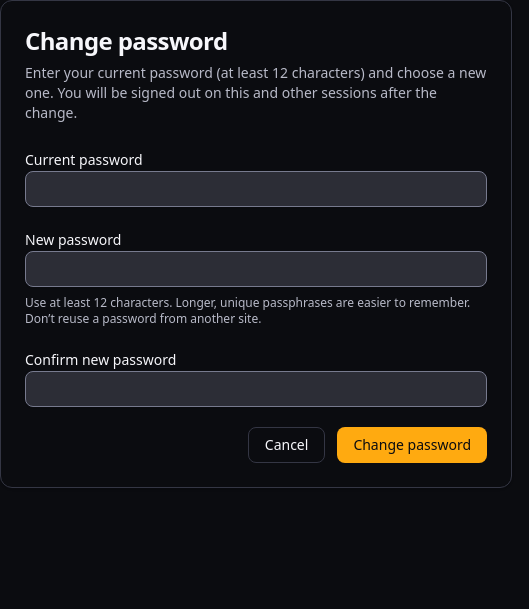
Test: self-service password change › shows password guidance and blocks a new password that is too short
Expected: the text "Use at least 12 characters. Longer, unique passphrases are easier to remember. Don’t reuse a password from another site." is shown, 25,294 -> 470,327
Type "current-test-password" into the password field labelled "Current password" at (256, 189), box 25,171 -> 487,207
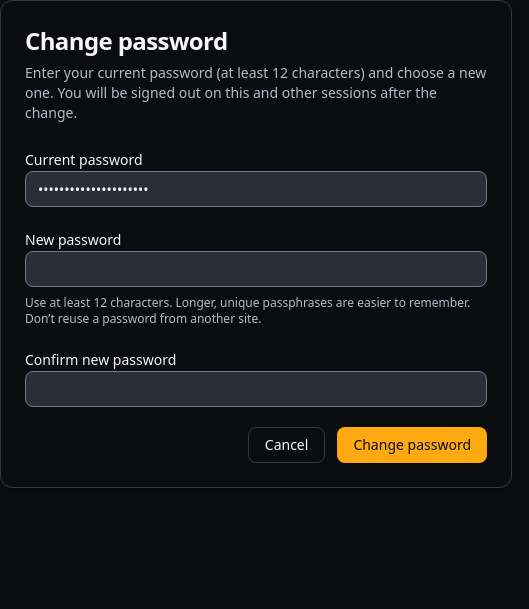
Type "short" into the password field labelled "New password" at (256, 269), box 25,251 -> 487,287
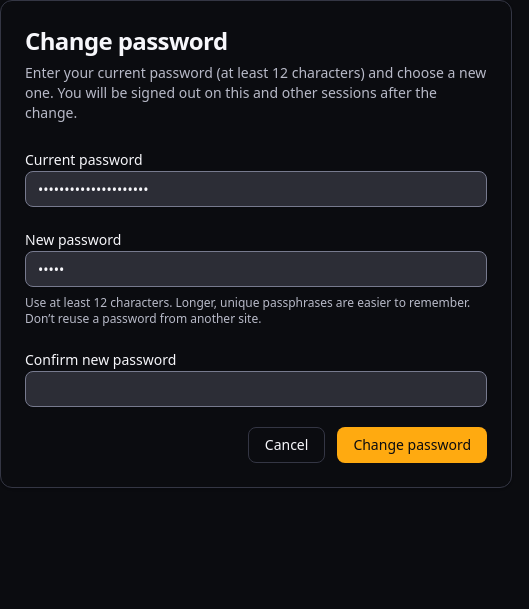
Type "short" into the password field labelled "Confirm new password" at (256, 389), box 25,371 -> 487,407
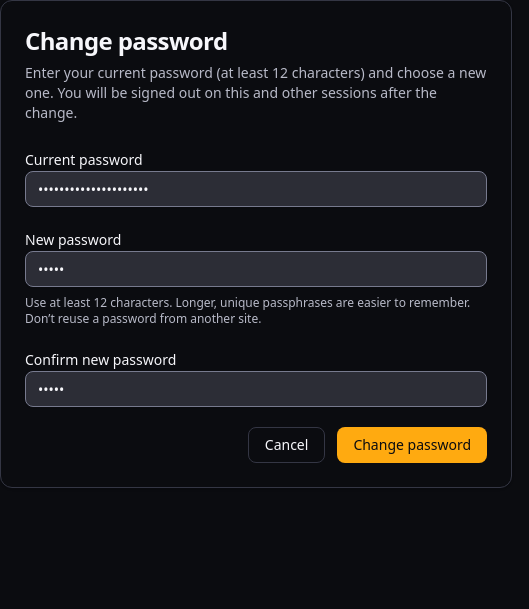
Click the button "Change password" at (412, 445), box 337,427 -> 487,463
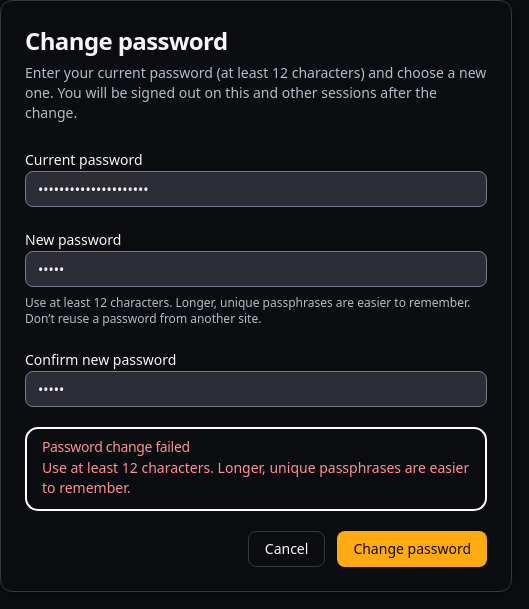
Now the message shows "Use at least 12 characters", box 42,458 -> 469,497
